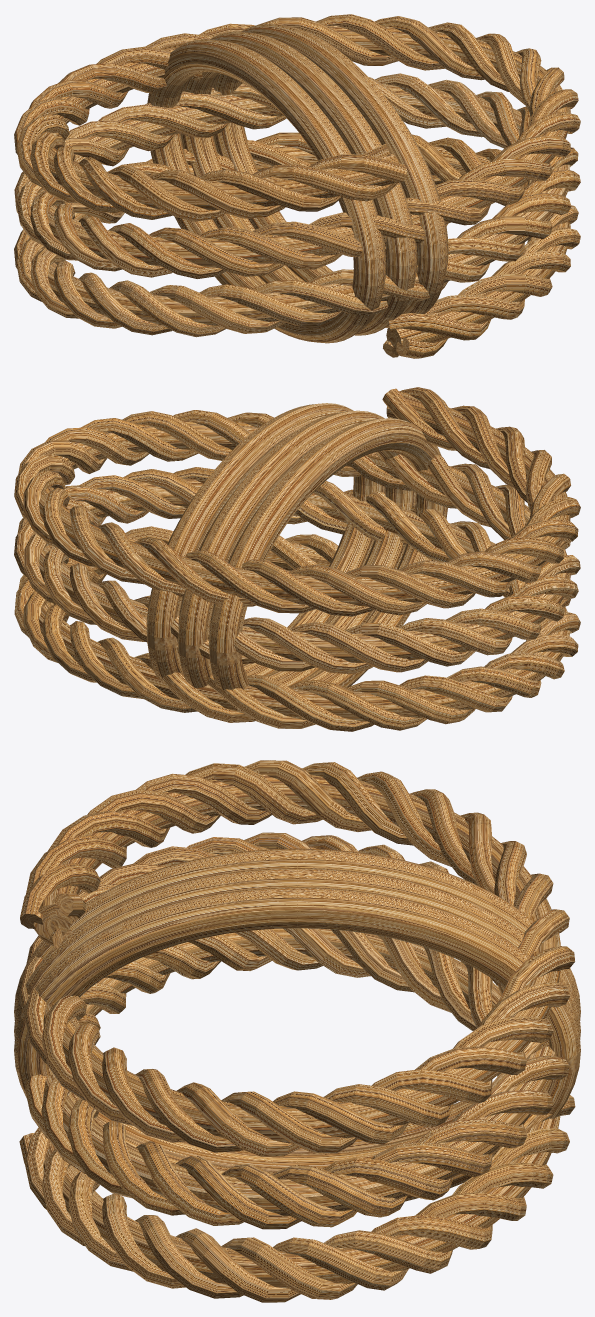
The model's file is rope.obj.
3 renders of one model, top to bottom at view 1: azimuth 30°, elevation 25°; view 2: azimuth 150°, elevation 25°; view 3: azimuth 270°, elevation 25°, orthographic. The views are drawn at different scales.
Parts seen in each view (by area): view 1: strand_2, strand_0, strand_1, cord, wrap_0, wrap_2, wrap_1; view 2: strand_1, strand_2, strand_0, cord, wrap_0, wrap_2, wrap_1; view 3: strand_2, strand_0, strand_1, cord, wrap_2, wrap_1, wrap_0.
Part boxes in pixels (x1,y1,x2,y2): strand_2: (14, 16, 580, 340); strand_0: (14, 17, 580, 358); strand_1: (14, 14, 580, 357); cord: (30, 26, 570, 355); wrap_0: (147, 39, 386, 343); wrap_2: (212, 24, 448, 327); wrap_1: (180, 31, 417, 335); strand_1: (14, 405, 580, 730); strand_2: (14, 388, 580, 731); strand_0: (14, 387, 580, 728); cord: (32, 391, 570, 721); wrap_0: (208, 418, 447, 690); wrap_2: (146, 403, 384, 680); wrap_1: (177, 410, 415, 688); strand_2: (25, 763, 575, 1299); strand_0: (19, 760, 569, 1302); strand_1: (19, 762, 575, 1298); cord: (33, 774, 560, 1288); wrap_2: (14, 887, 580, 1201); wrap_1: (14, 867, 580, 1171); wrap_0: (14, 848, 580, 1153).
Size of the model in its own units: 112 by 52.18 by 82.88.
Materials: 1 (1 with a texture image).
